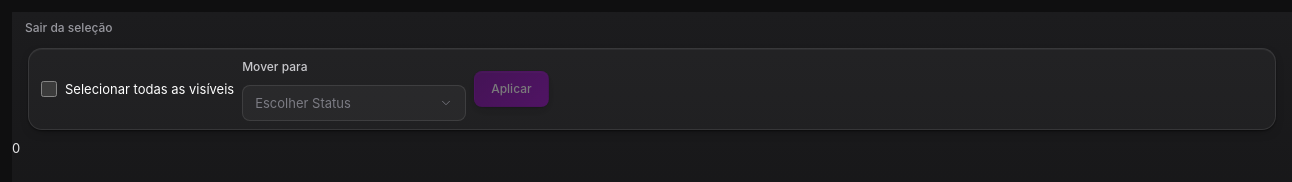
Test case: SelecaoEmLote › sair da seleção limpa as marcadas e remove a barra
The width and height of the screenshot is (1292, 182).
Click the checkbox.
click(49, 89)  # box [41,81,57,97]
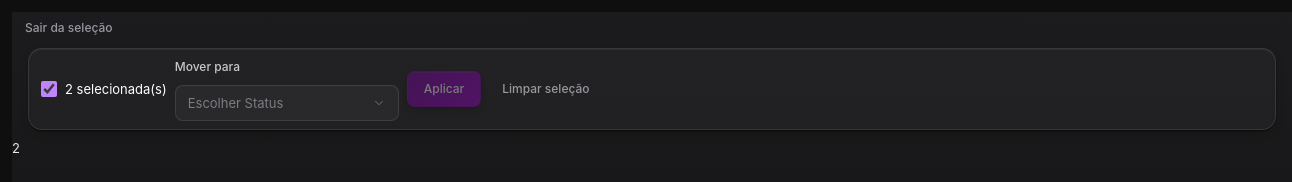
Click the button "Sair da seleção".
click(69, 28)  # box [12,12,126,44]
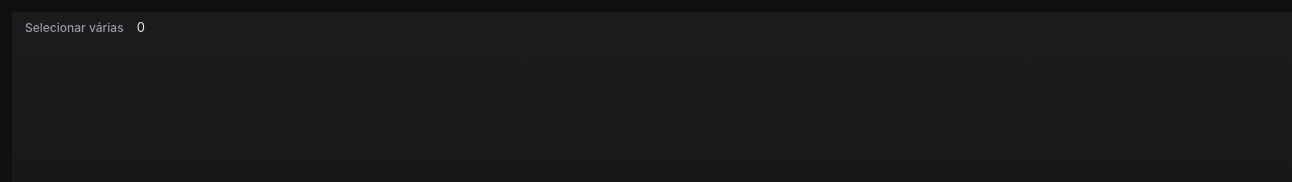
Expected: the element with test id "selecao-em-lote" is gone
Expected: the text with test id "marcadas" reads "0", [137,19,145,35]
